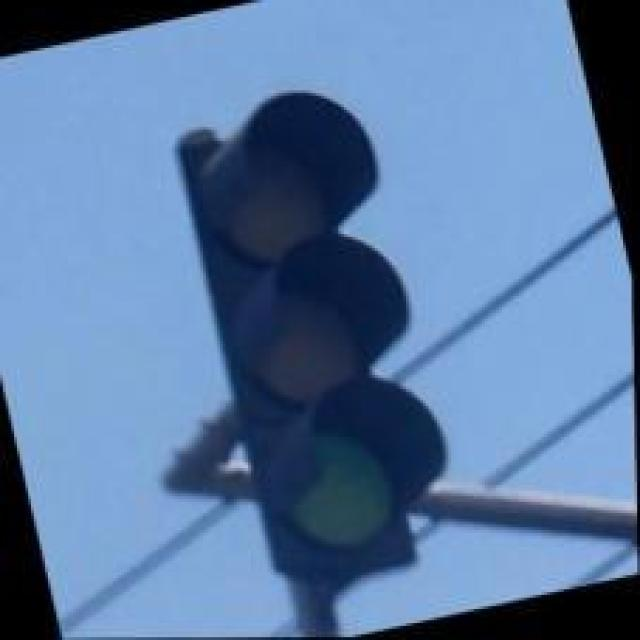green_light: (177, 90, 443, 632)
